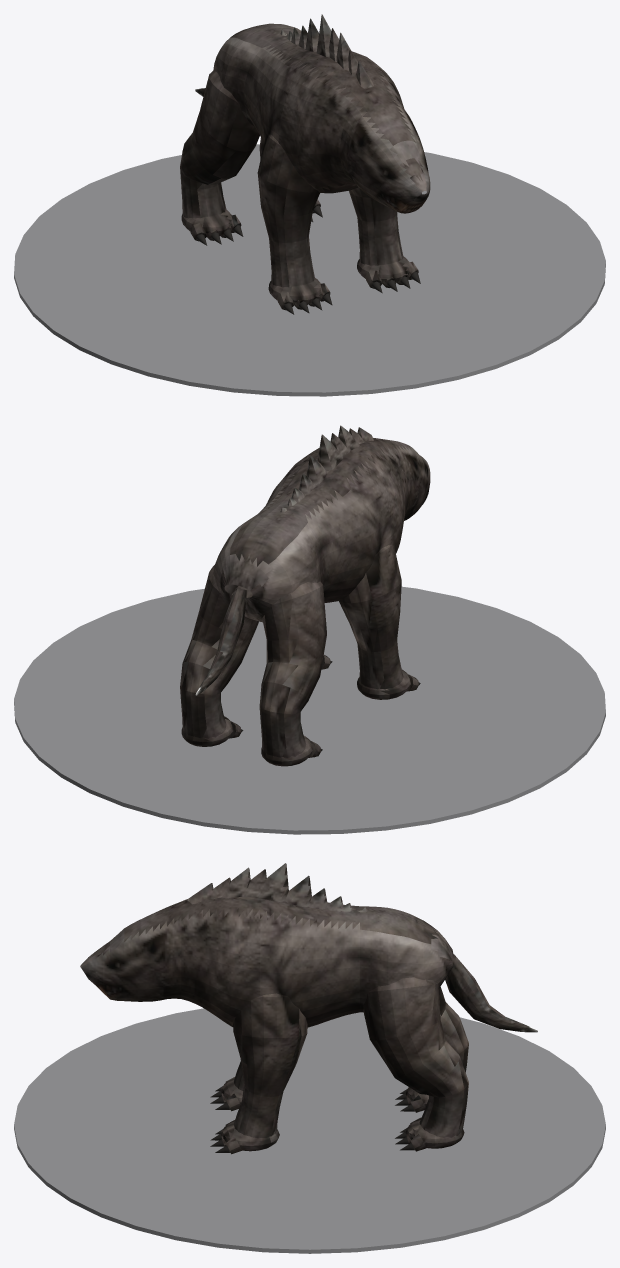
File: monstruo_cuadrupedo.glb
3 renders of one model, top to bottom at view 1: azimuth 30°, elevation 25°; view 2: azimuth 150°, elevation 25°; view 3: azimuth 270°, elevation 25°, orthographic.
Parts seen in each view (by area): view 1: MQ_Suelo, MQ_Cuerpo, MQ_Pata_Tras_-1, MQ_Pata_Del_-1, MQ_Pata_Del_1, MQ_PieD_-1_Planta, MQ_PieD_1_Planta, MQ_PieT_-1_Planta; view 2: MQ_Suelo, MQ_Cuerpo, MQ_Pata_Tras_-1, MQ_Pata_Tras_1, MQ_Pata_Del_-1, MQ_Cola, MQ_PieD_-1_Planta, MQ_Pua_4, MQ_PieT_1_Planta, MQ_PieT_-1_Planta; view 3: MQ_Suelo, MQ_Cuerpo, MQ_Pata_Tras_1, MQ_Pata_Del_1, MQ_Cola, MQ_Pata_Tras_-1, MQ_Pua_4, MQ_PieD_1_Planta, MQ_PieT_1_Planta, MQ_Pua_5.
Part boxes in pixels (x1=…): MQ_Suelo: x1=14, y1=144, x2=605, y2=396; MQ_Cuerpo: x1=213, y1=23, x2=430, y2=213; MQ_Pata_Tras_-1: x1=180, y1=71, x2=259, y2=218; MQ_Pata_Del_-1: x1=257, y1=134, x2=319, y2=287; MQ_Pata_Del_1: x1=349, y1=187, x2=403, y2=265; MQ_PieD_-1_Planta: x1=268, y1=278, x2=321, y2=304; MQ_PieD_1_Planta: x1=357, y1=256, x2=409, y2=283; MQ_PieT_-1_Planta: x1=181, y1=210, x2=232, y2=234; MQ_Suelo: x1=14, y1=586, x2=605, y2=834; MQ_Cuerpo: x1=213, y1=438, x2=430, y2=622; MQ_Pata_Tras_-1: x1=259, y1=581, x2=326, y2=757; MQ_Pata_Tras_1: x1=180, y1=565, x2=258, y2=738; MQ_Pata_Del_-1: x1=339, y1=545, x2=403, y2=689; MQ_Cola: x1=195, y1=587, x2=247, y2=696; MQ_PieD_-1_Planta: x1=357, y1=669, x2=410, y2=699; MQ_Pua_4: x1=317, y1=434, x2=343, y2=471; MQ_PieT_1_Planta: x1=181, y1=716, x2=233, y2=746; MQ_PieT_-1_Planta: x1=261, y1=736, x2=312, y2=766; MQ_Suelo: x1=14, y1=1008, x2=605, y2=1253; MQ_Cuerpo: x1=80, y1=897, x2=453, y2=1027; MQ_Pata_Tras_1: x1=363, y1=977, x2=468, y2=1137; MQ_Pata_Del_1: x1=233, y1=993, x2=307, y2=1138; MQ_Cola: x1=445, y1=954, x2=537, y2=1032; MQ_Pata_Tras_-1: x1=438, y1=987, x2=468, y2=1072; MQ_Pua_4: x1=258, y1=863, x2=288, y2=902; MQ_PieD_1_Planta: x1=221, y1=1121, x2=279, y2=1151; MQ_PieT_1_Planta: x1=405, y1=1119, x2=464, y2=1148; MQ_Pua_5: x1=285, y1=875, x2=311, y2=907.
Bounding box in the file's own units: 4 × 1.98 × 4.
Materials: 53 (36 with a texture image).
